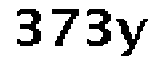3: (85, 4, 114, 50), (14, 6, 41, 51)
7: (48, 8, 83, 50)
y: (115, 16, 150, 60)
